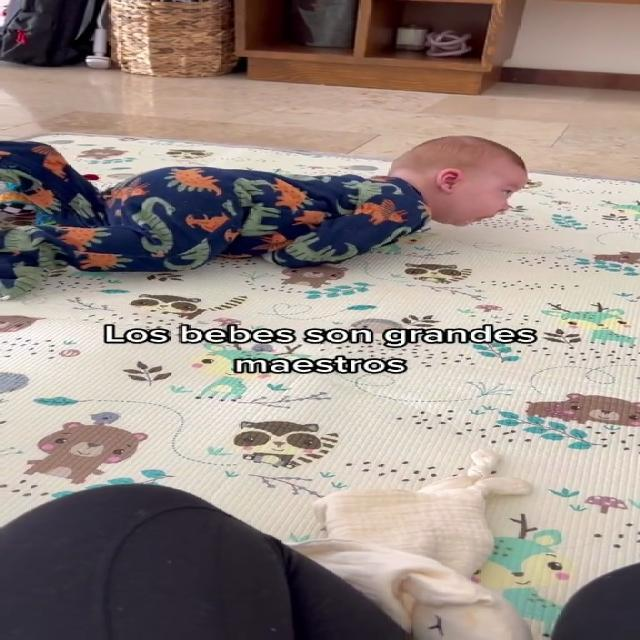baby: (3, 118, 540, 282)
